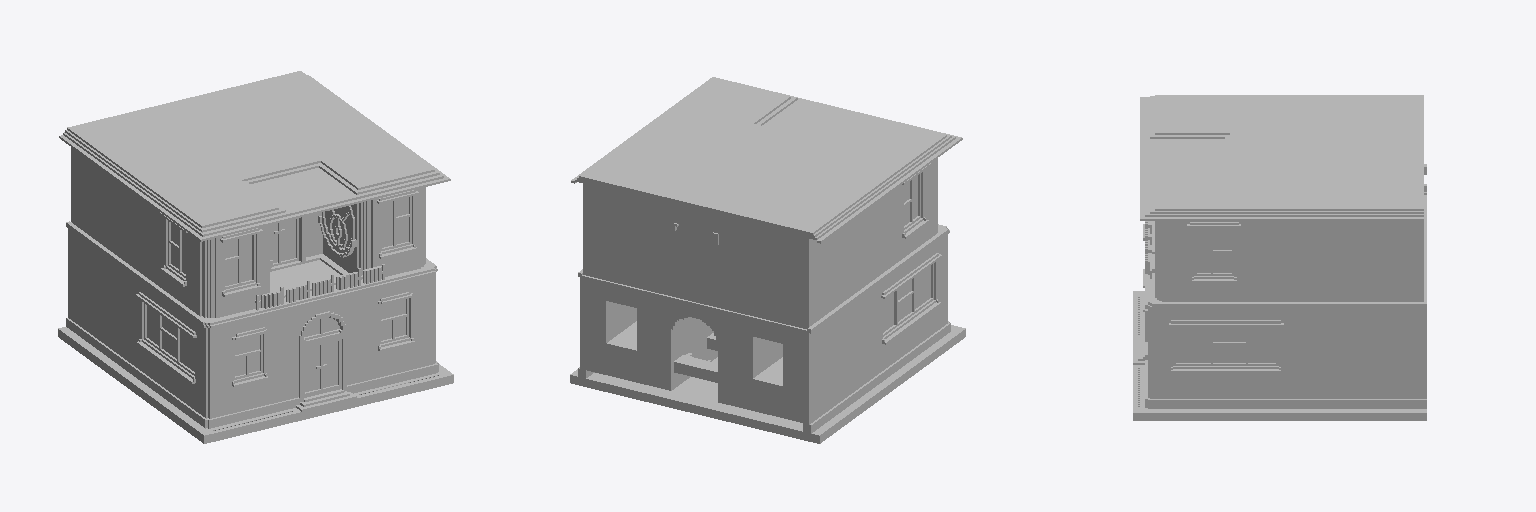
File: ylica goroda-7.obj
3 renders of one model, left to right at view 1: azimuth 30°, elevation 25°; view 2: azimuth 150°, elevation 25°; view 3: azimuth 270°, elevation 25°, orthographic.
Visible parts, largest first — view 1: object 1; view 2: object 1; view 3: object 1.
Part boxes in pixels (x1,y1,x2,y2): object 1: (58, 71, 453, 443); object 1: (570, 77, 965, 443); object 1: (1133, 95, 1426, 420).
Size of the model in its own units: 12.3 by 9.8 by 12.5.